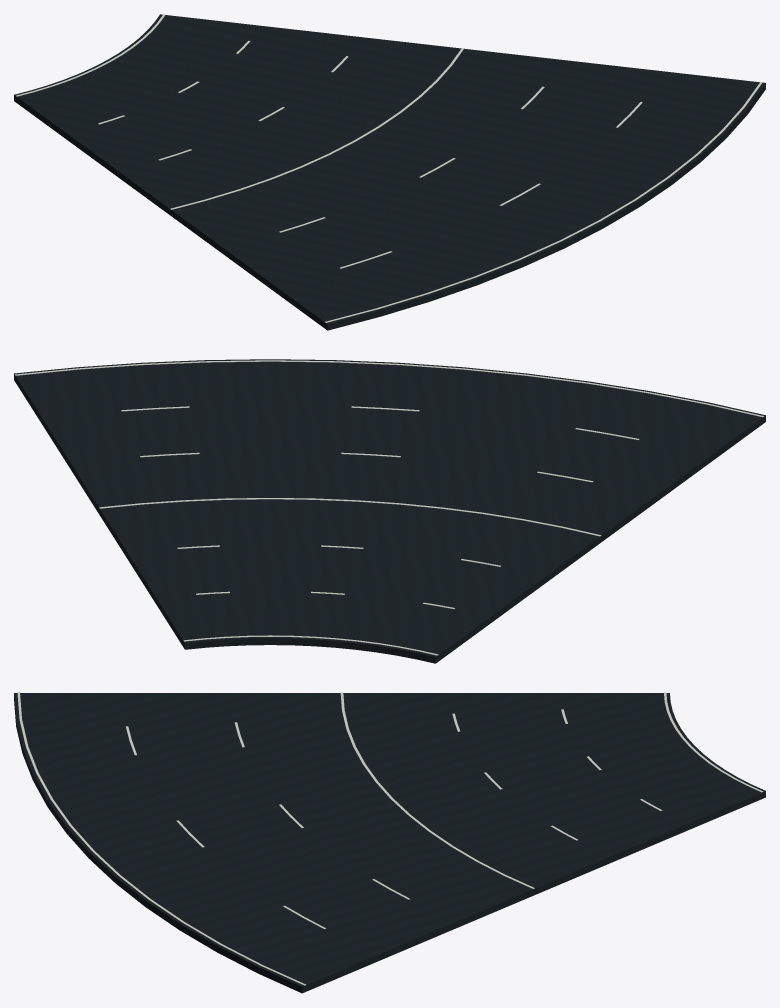
The model's file is Transit_Road_6L_Curve45_R18.glb.
3 renders of one model, top to bottom at view 1: azimuth 30°, elevation 25°; view 2: azimuth 150°, elevation 25°; view 3: azimuth 270°, elevation 25°, orthographic. The views are drawn at different scales.
Visible parts, largest first — view 1: Transit_Road_6L_Curve45_R18_Surface, Transit_Road_6L_Curve45_R18_MarkEdge-1, Transit_Road_6L_Curve45_R18_MarkLane3; view 2: Transit_Road_6L_Curve45_R18_Surface, Transit_Road_6L_Curve45_R18_MarkEdge-1, Transit_Road_6L_Curve45_R18_MarkLane3, Transit_Road_6L_Curve45_R18_MarkEdge+1; view 3: Transit_Road_6L_Curve45_R18_Surface, Transit_Road_6L_Curve45_R18_MarkEdge-1, Transit_Road_6L_Curve45_R18_MarkLane3.
Boxes of the visible parts, left/top/right/bottom form: Transit_Road_6L_Curve45_R18_Surface: left=14, top=14, right=765, bottom=330; Transit_Road_6L_Curve45_R18_MarkEdge-1: left=325, top=82, right=762, bottom=322; Transit_Road_6L_Curve45_R18_MarkLane3: left=170, top=48, right=464, bottom=209; Transit_Road_6L_Curve45_R18_Surface: left=14, top=359, right=765, bottom=663; Transit_Road_6L_Curve45_R18_MarkEdge-1: left=15, top=360, right=763, bottom=417; Transit_Road_6L_Curve45_R18_MarkLane3: left=99, top=498, right=601, bottom=536; Transit_Road_6L_Curve45_R18_MarkEdge+1: left=183, top=635, right=438, bottom=655; Transit_Road_6L_Curve45_R18_Surface: left=14, top=693, right=765, bottom=993; Transit_Road_6L_Curve45_R18_MarkEdge-1: left=17, top=692, right=305, bottom=985; Transit_Road_6L_Curve45_R18_MarkLane3: left=340, top=692, right=534, bottom=888.
Size of the model in its own units: 19.09 by 0.212 by 20.64.
Materials: 2 (1 with a texture image).
